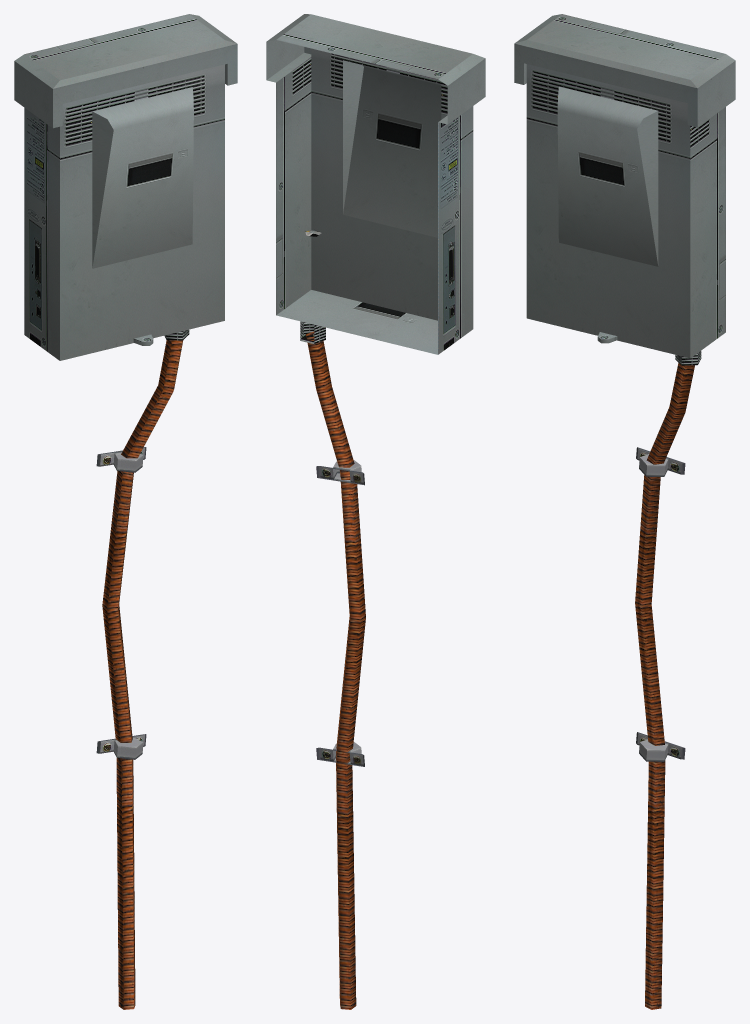
Rendered from power_box-2.FBX.
3 views of the same model, side by side, from view 1: azimuth 30°, elevation 25°; view 2: azimuth 150°, elevation 25°; view 3: azimuth 330°, elevation 25° (orthographic).
Parts seen in each view (by area): view 1: objcube; view 2: objcube; view 3: objcube.
Boxes of the visible parts, left/top/right/bottom form: objcube: left=14, top=14, right=237, bottom=1009; objcube: left=266, top=14, right=485, bottom=1009; objcube: left=514, top=14, right=735, bottom=1009.
Size of the model in its own units: 11.38 by 57.24 by 5.23.
